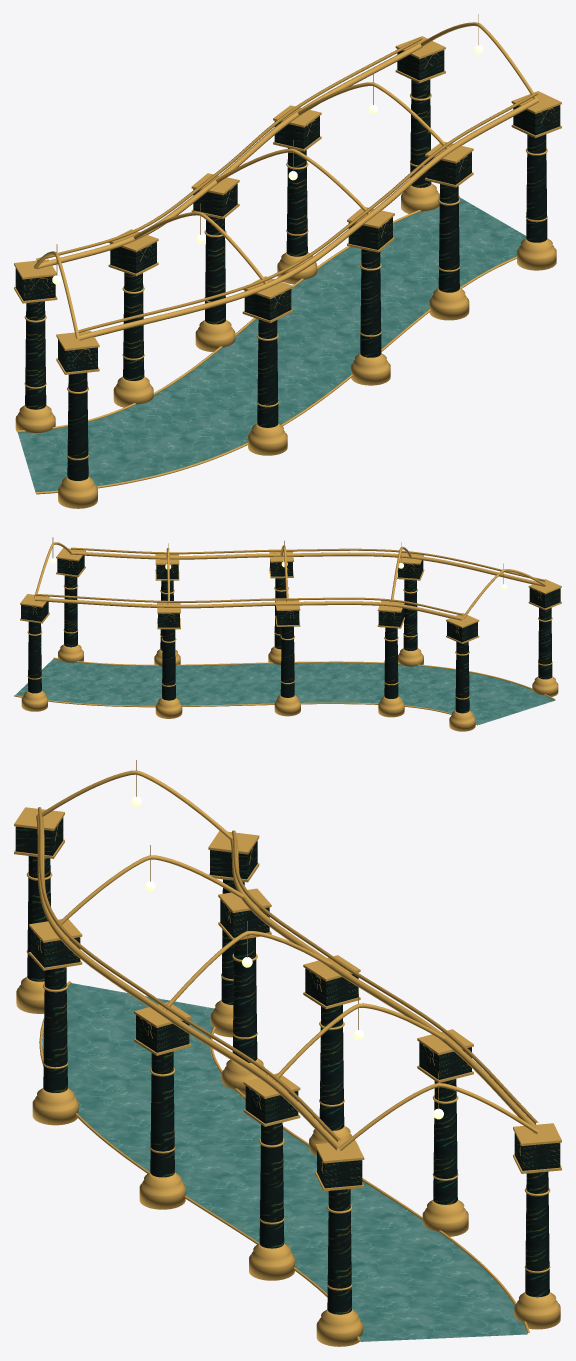
The model's file is colonnade.opt.glb.
The picture shows the model from 3 angles, top to bottom: view 1: azimuth 30°, elevation 25°; view 2: azimuth 150°, elevation 25°; view 3: azimuth 270°, elevation 25°; orthographic projection. The views are drawn at different scales.
Visible parts, largest first — view 1: colonnade_MeshPhysicalMaterial (×2), colonnade_MeshStandardMaterial (×2); view 2: colonnade_MeshPhysicalMaterial (×2), colonnade_MeshStandardMaterial (×2); view 3: colonnade_MeshPhysicalMaterial (×2), colonnade_MeshStandardMaterial (×2).
Boxes of the visible parts, x1,y1,x2,y2 form: colonnade_MeshPhysicalMaterial (×2): (15,49,560,492); colonnade_MeshStandardMaterial (×2): (14,14,561,508); colonnade_MeshPhysicalMaterial (×2): (15,555,560,724); colonnade_MeshStandardMaterial (×2): (14,537,561,731); colonnade_MeshPhysicalMaterial (×2): (15,817,560,1341); colonnade_MeshStandardMaterial (×2): (14,760,561,1346).
Bounding box in the file's own units: 17.28 × 5.73 × 11.12.
5 materials, 2 textured.
